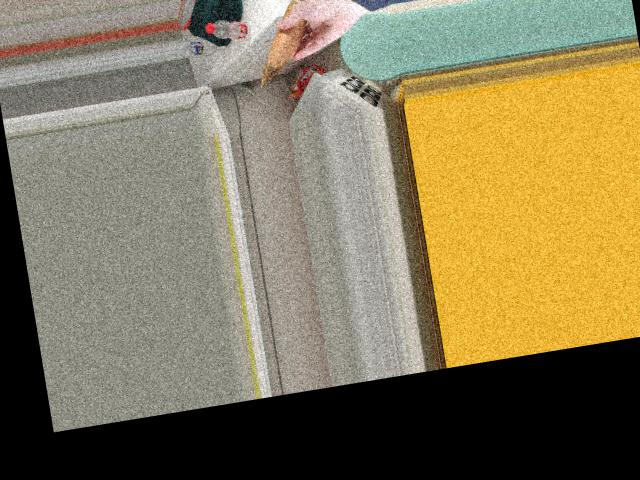sweet_potato: (259, 11, 310, 63)
